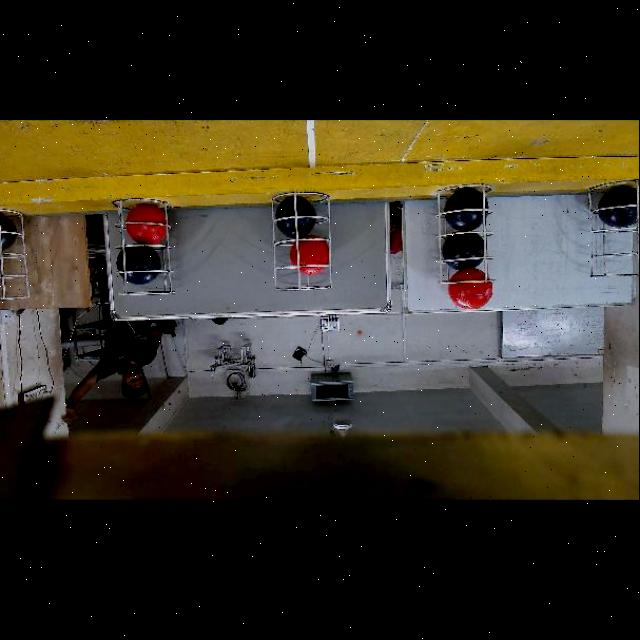P: (447, 191, 489, 232), (443, 233, 485, 272), (118, 245, 159, 284), (277, 198, 316, 239), (600, 185, 639, 225), (0, 214, 14, 252)
R: (448, 269, 493, 311), (125, 205, 168, 245), (291, 241, 329, 276)
S: (434, 182, 504, 282), (272, 194, 328, 296), (116, 200, 170, 294), (590, 181, 640, 281), (1, 209, 34, 305)
